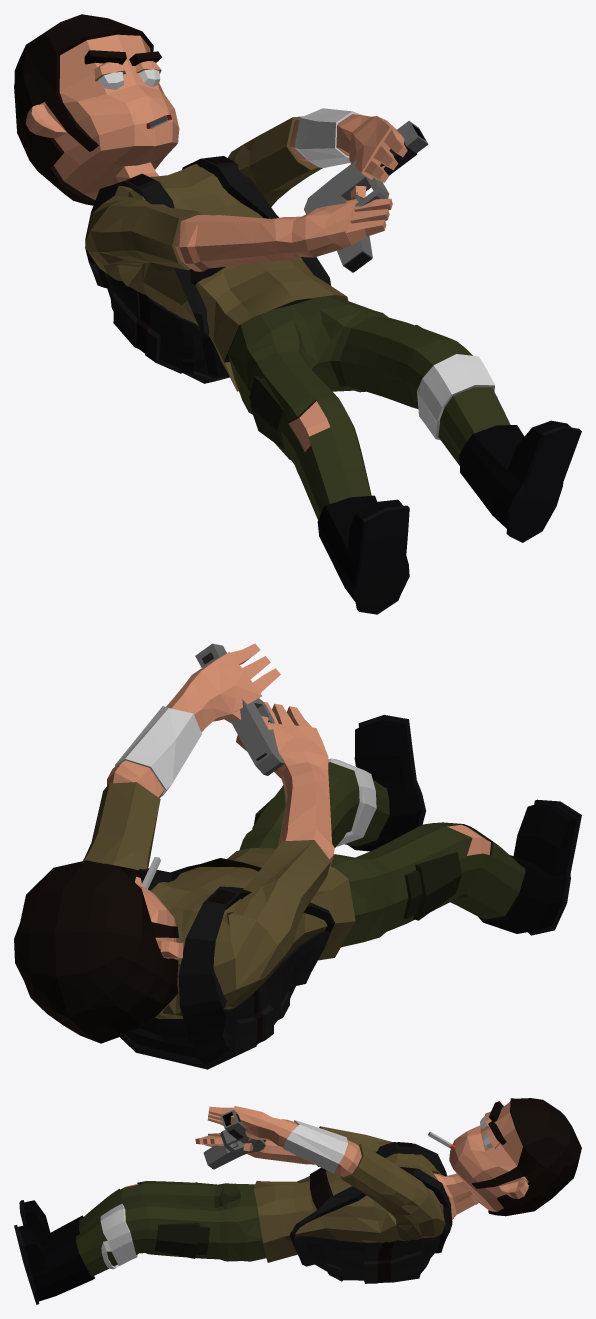
The model's file is frame_0028.obj.
3 renders of one model, top to bottom at view 1: azimuth 30°, elevation 25°; view 2: azimuth 150°, elevation 25°; view 3: azimuth 270°, elevation 25°, orthographic. The views are drawn at different scales.
Parts seen in each view (by area): view 1: Body, Gun; view 2: Body, Gun; view 3: Body, Gun.
Boxes of the visible parts, x1,y1,x2,y2 form: Body: (14, 14, 581, 614); Gun: (304, 121, 428, 272); Body: (14, 643, 581, 1069); Gun: (195, 643, 284, 775); Body: (14, 1098, 581, 1304); Gun: (203, 1110, 265, 1169).
Bounding box in the file's own units: 1.24 × 1.87 × 4.14.
